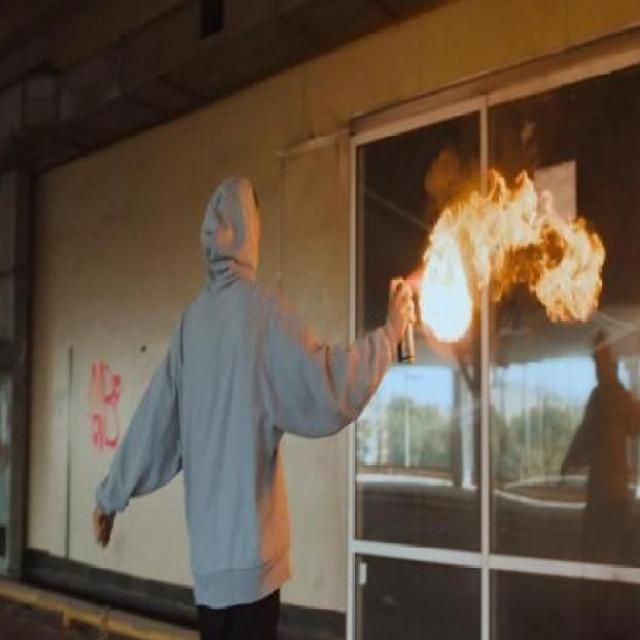smoke: (418, 172, 613, 350)
